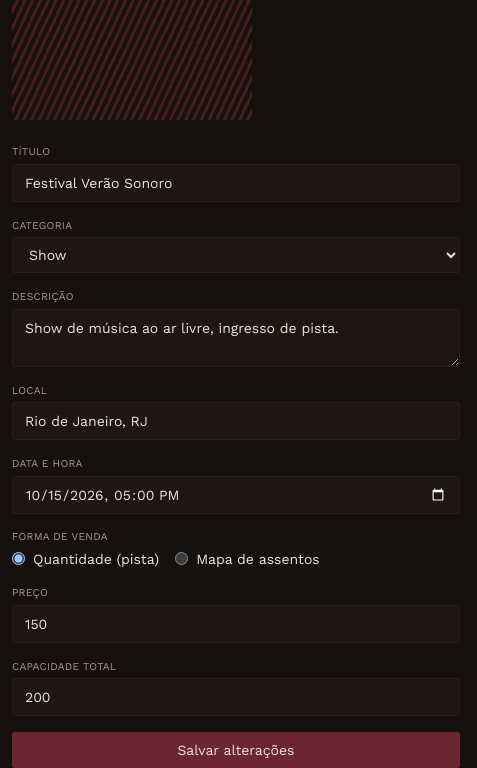
it: EditEventContent › shows a server error and does not navigate when the update is rejected
(page scrolled)
Expected: the field labelled "Título" is shown, [12,164,460,202]
Step 1. Click the button "Salvar alterações" → x=236, y=750, box [12,732,460,767]
(page scrolled)
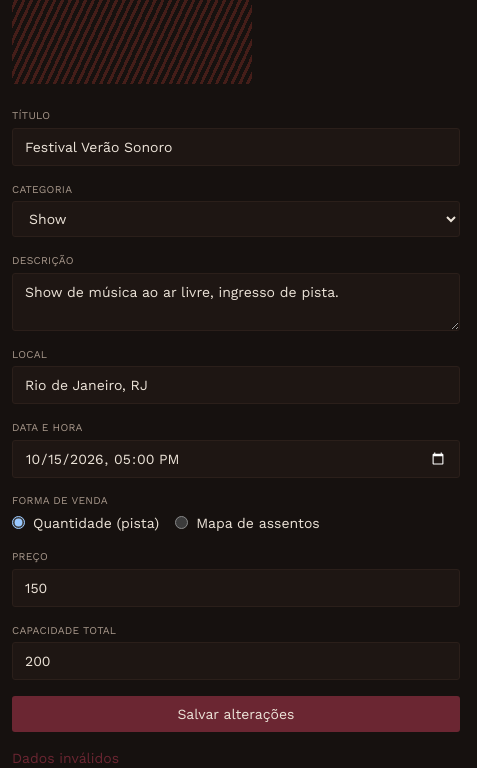
Result: the text "Dados inválidos" is shown at [12,750,119,766]
